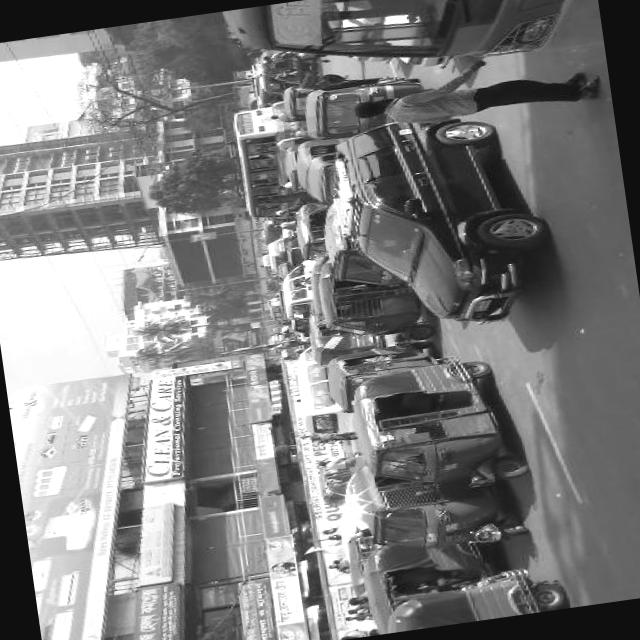bus: (221, 0, 601, 96), (230, 100, 319, 223)
car: (328, 103, 558, 344)
motorcycle: (336, 347, 536, 505), (341, 434, 534, 562), (359, 529, 506, 632), (373, 561, 572, 635), (314, 243, 444, 354), (316, 336, 448, 418), (320, 192, 421, 296), (295, 73, 436, 144), (305, 305, 384, 366), (284, 132, 364, 190), (337, 525, 389, 609), (250, 50, 326, 100), (312, 452, 372, 509), (294, 150, 354, 206), (286, 198, 336, 264), (278, 76, 344, 122), (272, 144, 310, 196), (259, 217, 287, 243)
truck: (287, 338, 377, 442), (268, 256, 336, 327), (262, 239, 290, 279), (261, 294, 288, 326)
